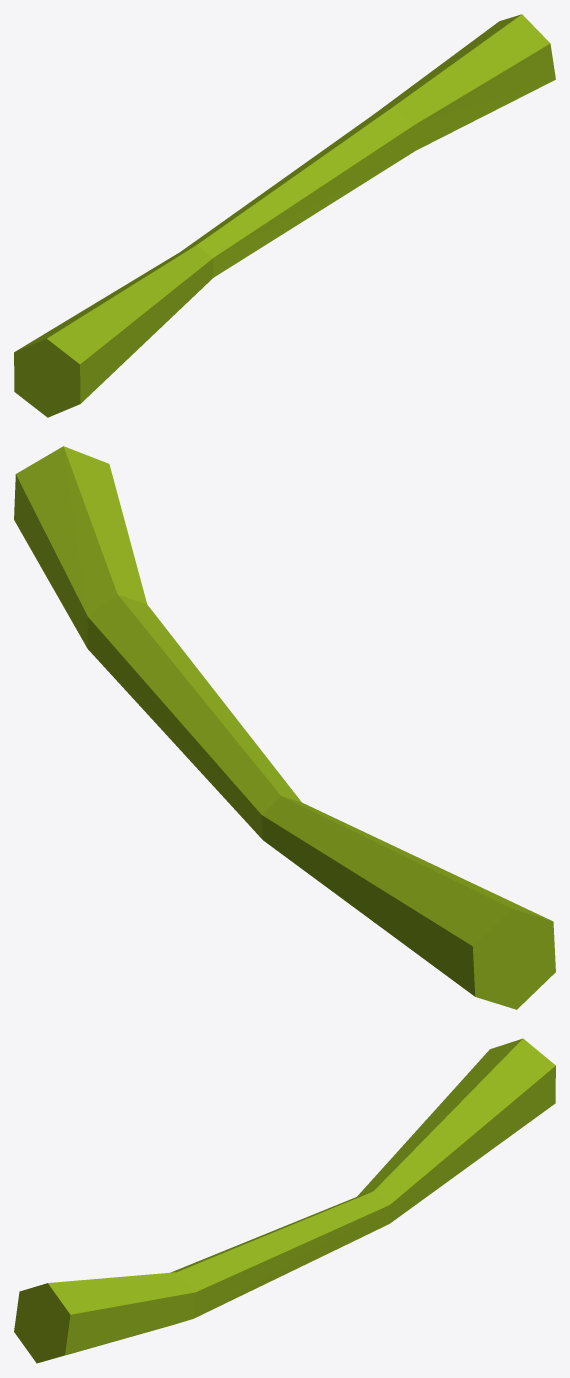
File: Vegetation_Modular_Tree_Foliage_Common_Leaf_Stub_01.fbx
3 views of the same model, one above another, from view 1: azimuth 90°, elevation 25°; view 2: azimuth 150°, elevation 25°; view 3: azimuth 270°, elevation 25° (orthographic). The views are drawn at different scales.
Parts seen in each view (by area): view 1: Vegetation_Modular_Tree_Foliage_Common_Leaf_Stub_01; view 2: Vegetation_Modular_Tree_Foliage_Common_Leaf_Stub_01; view 3: Vegetation_Modular_Tree_Foliage_Common_Leaf_Stub_01.
Part boxes in pixels (box(x1,y1,x2,y2)): Vegetation_Modular_Tree_Foliage_Common_Leaf_Stub_01: box(14, 14, 555, 417); Vegetation_Modular_Tree_Foliage_Common_Leaf_Stub_01: box(14, 446, 555, 1009); Vegetation_Modular_Tree_Foliage_Common_Leaf_Stub_01: box(14, 1038, 555, 1363).
Bounding box in the file's own units: 656 × 117 × 489.
